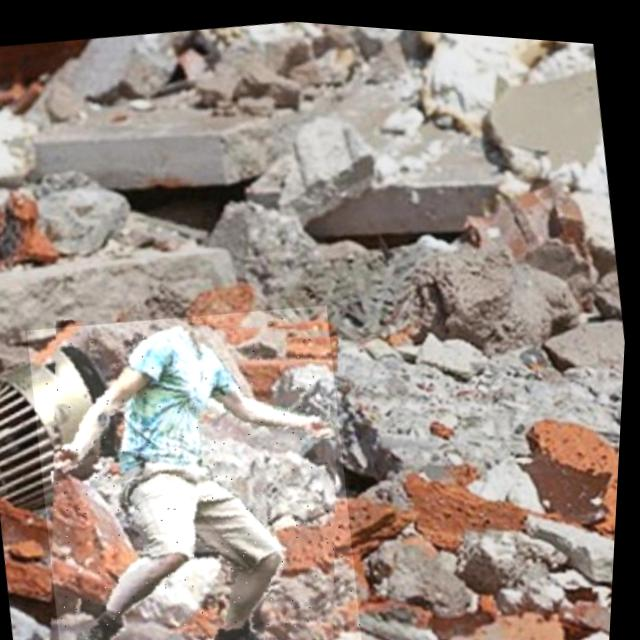Person in Rubble: (18, 283, 384, 640)
